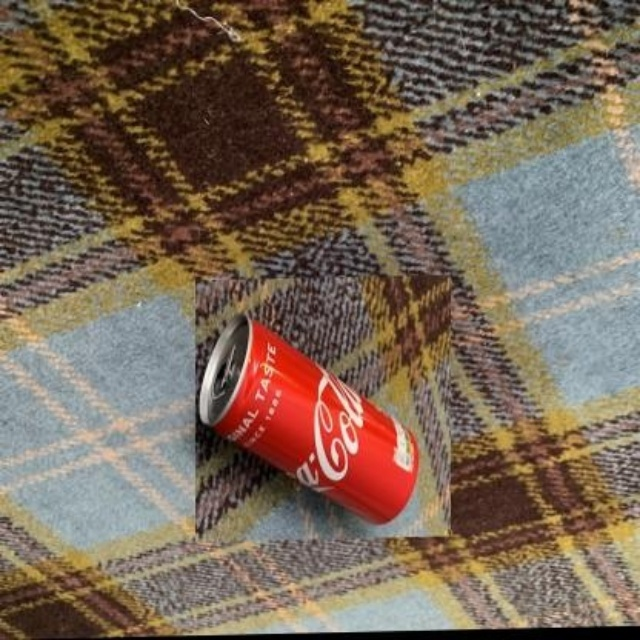trash: (198, 315, 417, 522)
